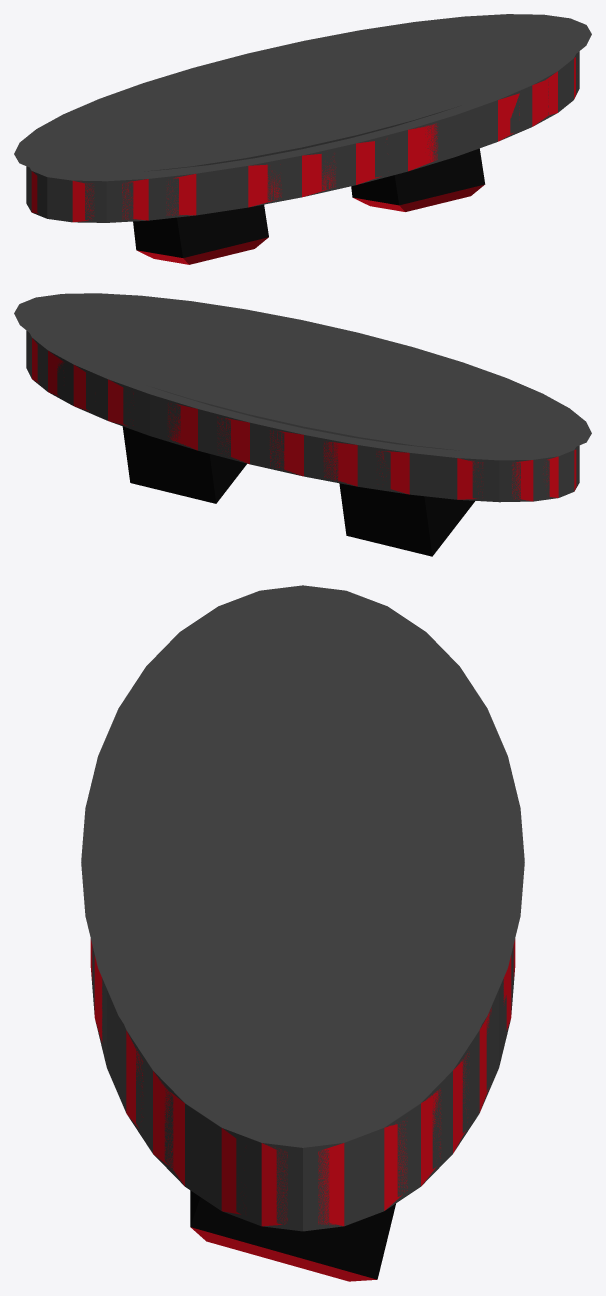
Rendered from Pad.fbx.
3 renders of one model, top to bottom at view 1: azimuth 30°, elevation 25°; view 2: azimuth 150°, elevation 25°; view 3: azimuth 270°, elevation 25°, orthographic. The views are drawn at different scales.
Visible parts, largest first — view 1: Cylinder, Cube, Cube.001; view 2: Cylinder, Cube, Cube.001; view 3: Cylinder, Cube.001.
Part boxes in pixels (x1,y1,x2,y2): Cylinder: [14, 14, 591, 222]; Cube: [133, 204, 268, 264]; Cube.001: [351, 148, 485, 211]; Cylinder: [14, 293, 591, 502]; Cube: [339, 483, 474, 556]; Cube.001: [122, 426, 246, 503]; Cylinder: [81, 585, 524, 1231]; Cube.001: [190, 1190, 395, 1281].
Bounding box in the file's own units: 617 × 145 × 209.
